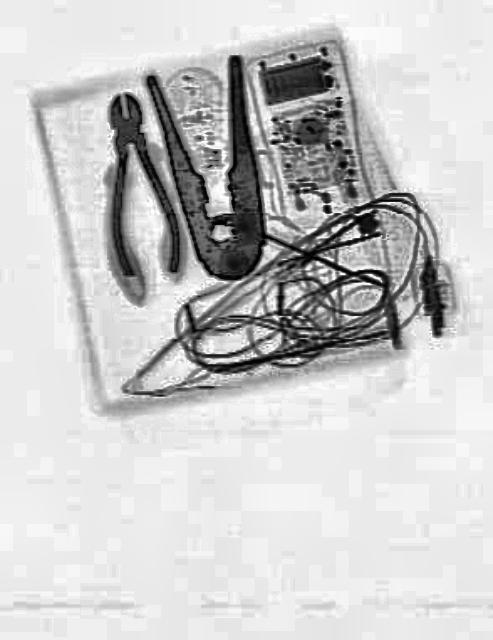Pliers: (142, 48, 282, 292), (88, 84, 185, 282)
